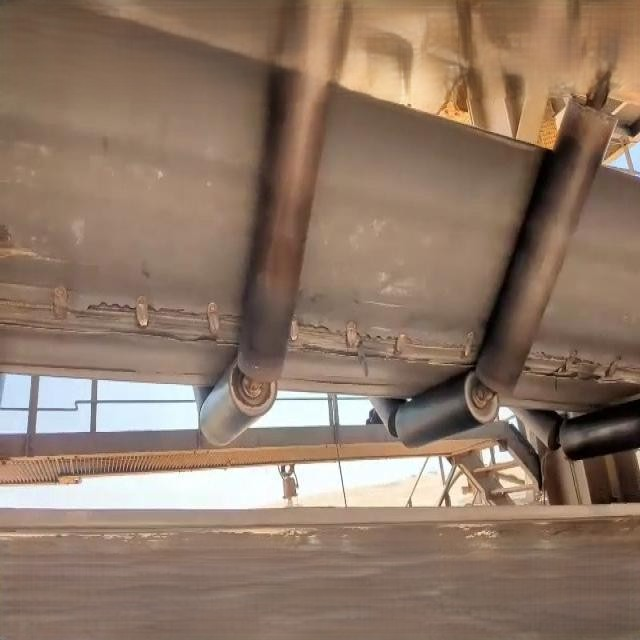Tear: (0, 277, 246, 353), (289, 306, 486, 376), (518, 345, 640, 393)
Wear: (0, 221, 76, 275)
